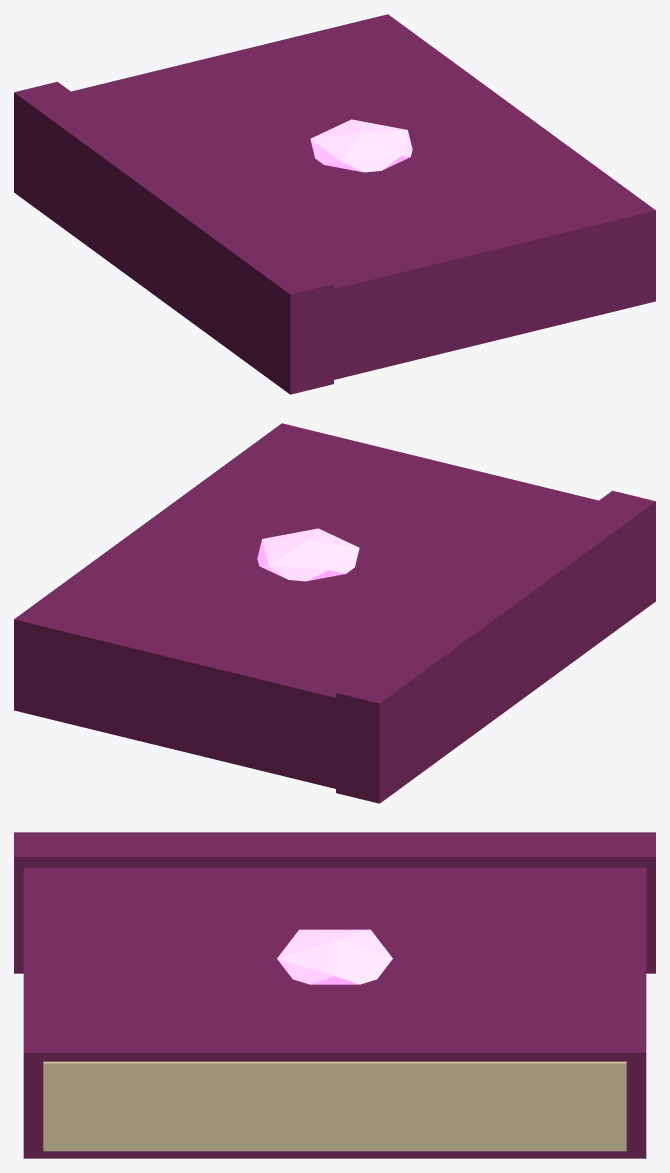
Rendered from spellbook.fbx.
3 renders of one model, top to bottom at view 1: azimuth 30°, elevation 25°; view 2: azimuth 150°, elevation 25°; view 3: azimuth 270°, elevation 25°, orthographic. The views are drawn at different scales.
Parts seen in each view (by area): view 1: spellbook; view 2: spellbook; view 3: spellbook.
Part boxes in pixels (left/top/right/bottom): spellbook: left=14, top=14, right=655, bottom=394; spellbook: left=14, top=423, right=655, bottom=803; spellbook: left=14, top=832, right=655, bottom=1158.
Bounding box in the file's own units: 0.257 × 0.0725 × 0.33.
